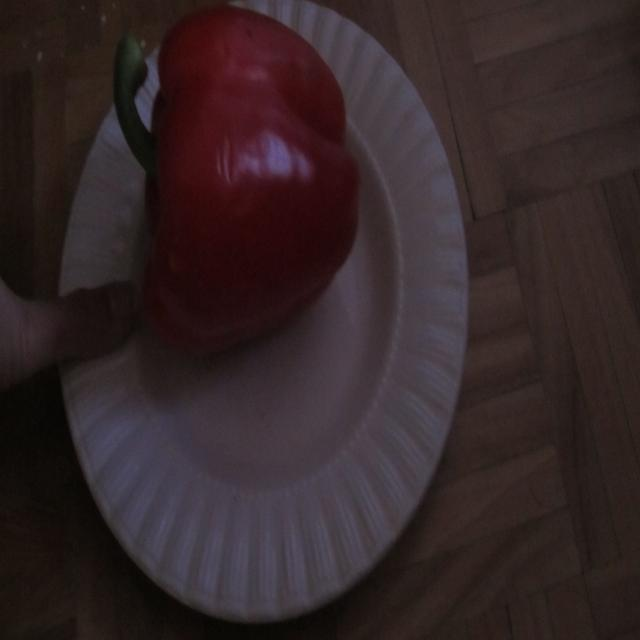Pepper: (112, 6, 361, 358)
